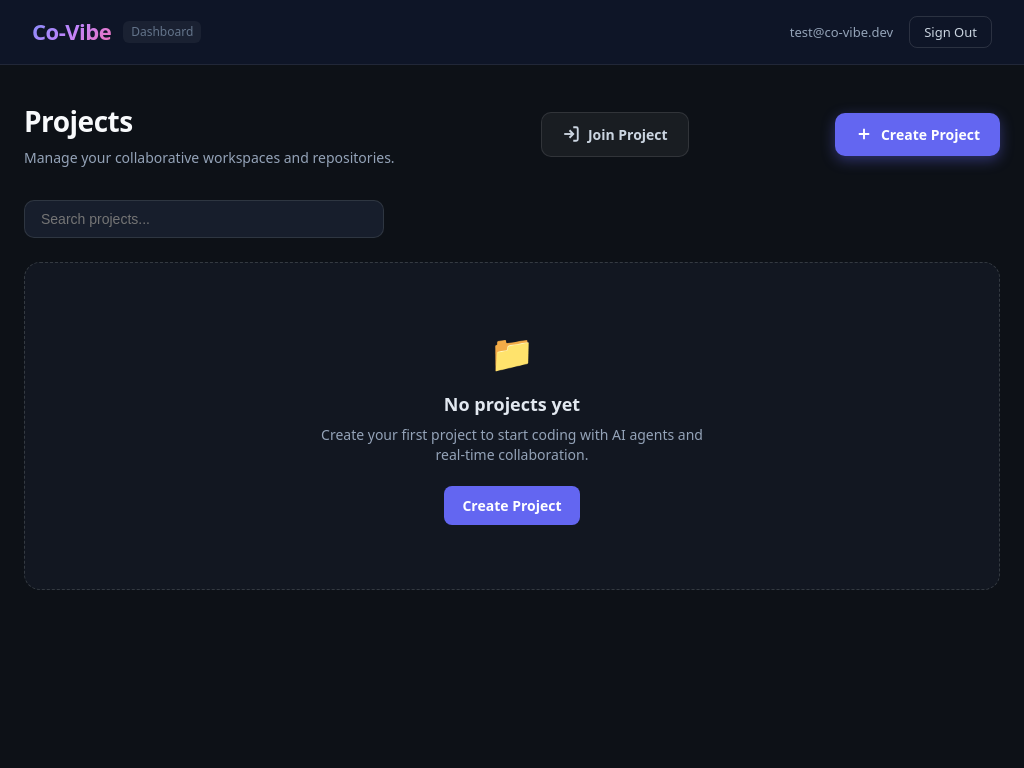
ProjectsPage Component › creates a project when modal form is submitted
The image size is (1024, 768).
Expected: the element with test id "empty-projects-state" is shown, [24,262,1000,590]
// Open modal
Click the button with test id "create-project-btn": click(917, 134) [835,113,1000,156]
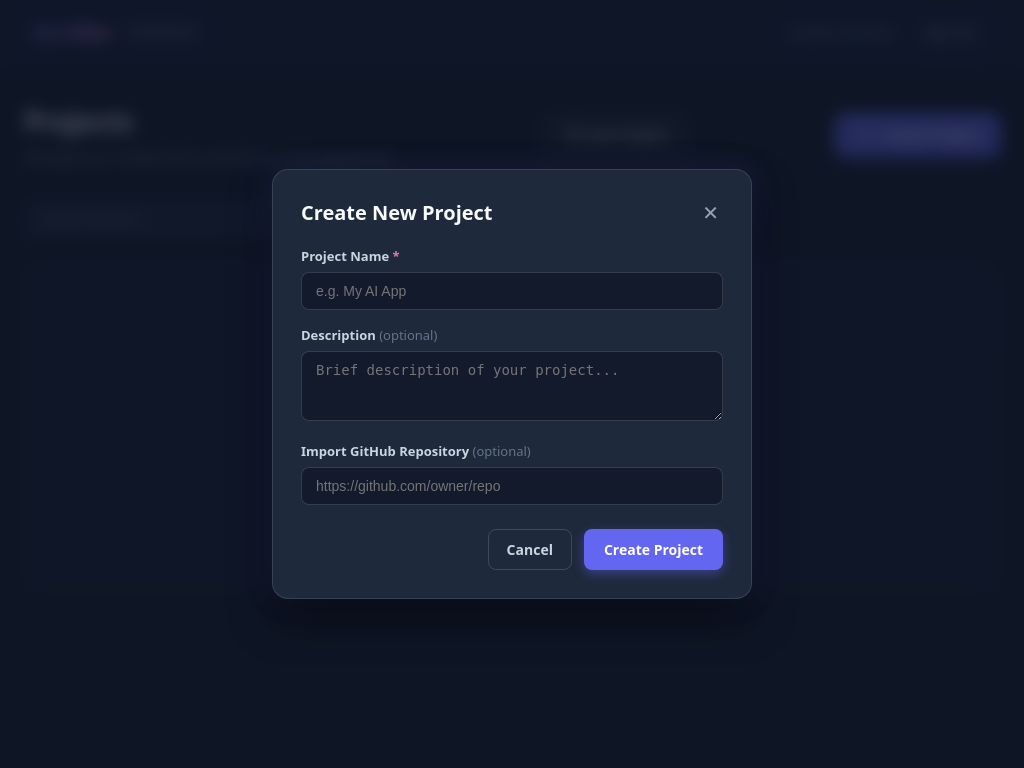
In the field labelled "Project Name *": (512, 291) [301,272,723,310], type "New Gamma Project"
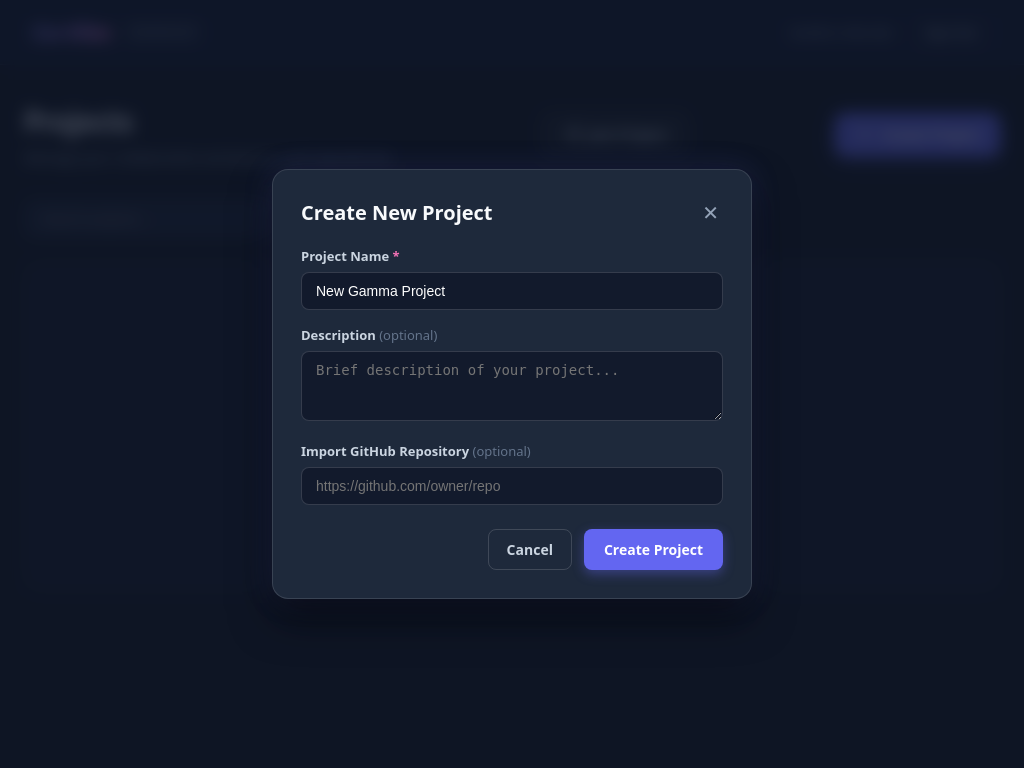
In the text box labelled "Description (optional)": (512, 386) [301,351,723,421], type "Gamma project description"
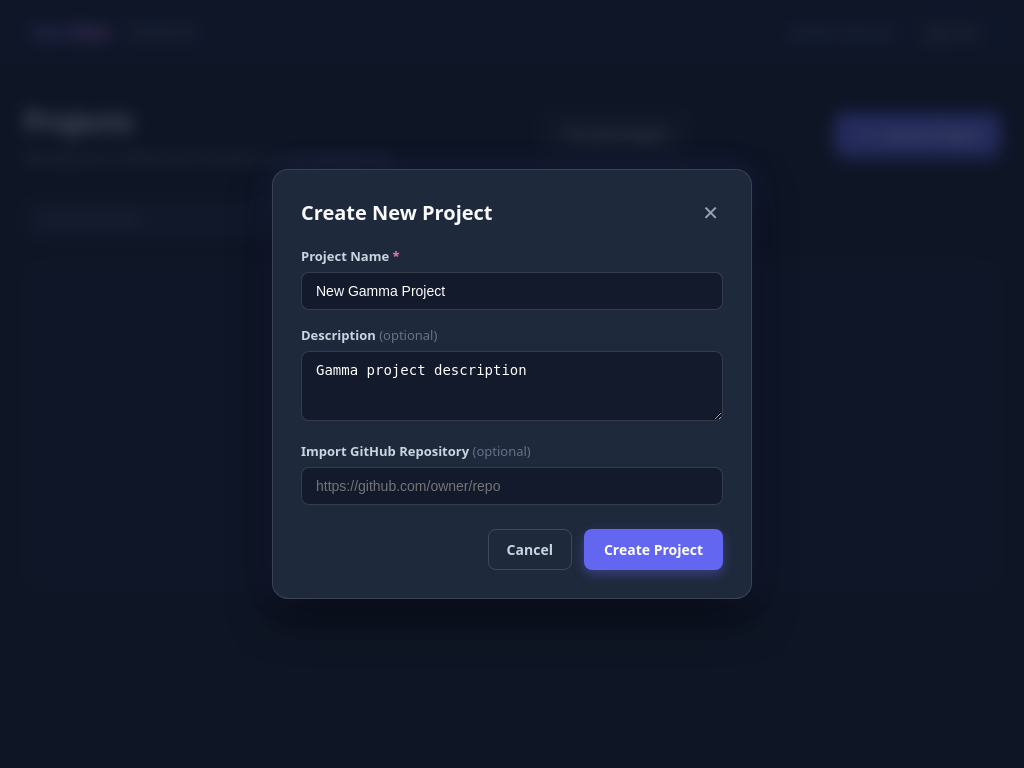
// Submit form
Click the button with test id "create-project-submit-btn": click(653, 549) [584,529,723,570]
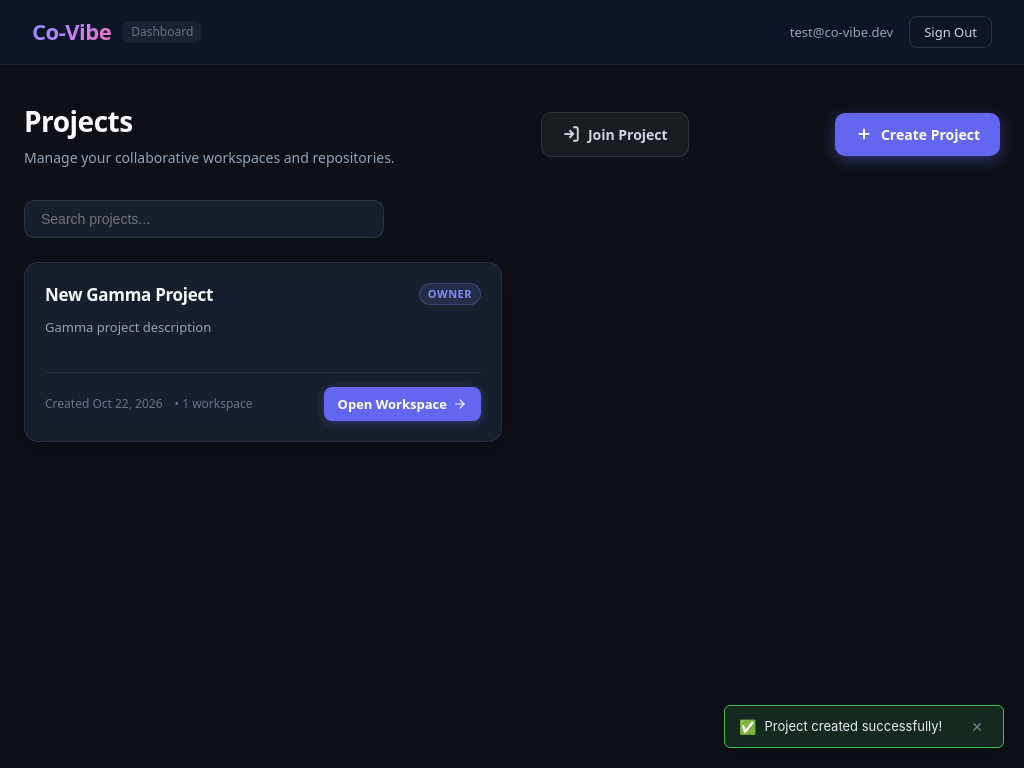
Expected: the heading "New Gamma Project" is shown, [45,283,213,308]
